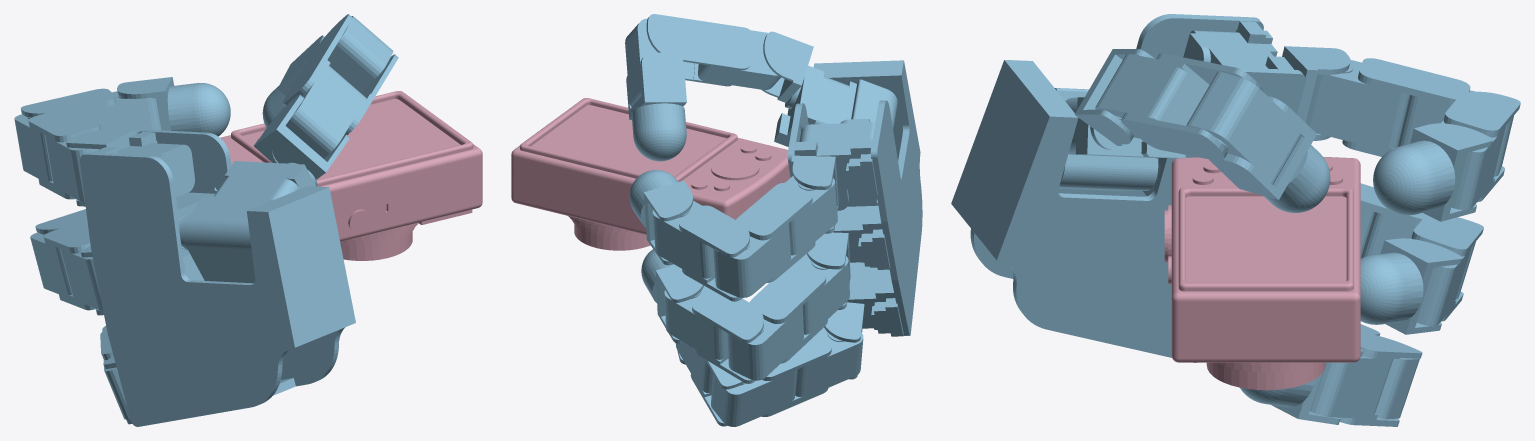
3 views of the same model, side by side, from view 1: azimuth 30°, elevation 25°; view 2: azimuth 150°, elevation 25°; view 3: azimuth 270°, elevation 25° (orthographic). The views are drawn at different scales.
Visible parts, largest first — view 1: world; view 2: world; view 3: world.
Boxes of the visible parts, x1=… form: world: x1=14, y1=14, x2=482, y2=426; world: x1=511, y1=14, x2=922, y2=426; world: x1=951, y1=14, x2=1520, y2=426.
Bounding box in the file's own units: 0.171 × 0.1666 × 0.1952.
